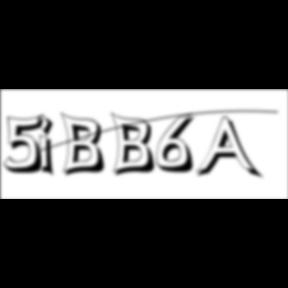5: (3, 114, 50, 176)
6: (156, 112, 202, 176)
A: (196, 116, 264, 182)
B: (61, 111, 111, 179), (111, 111, 161, 179)
i: (37, 112, 61, 180)
